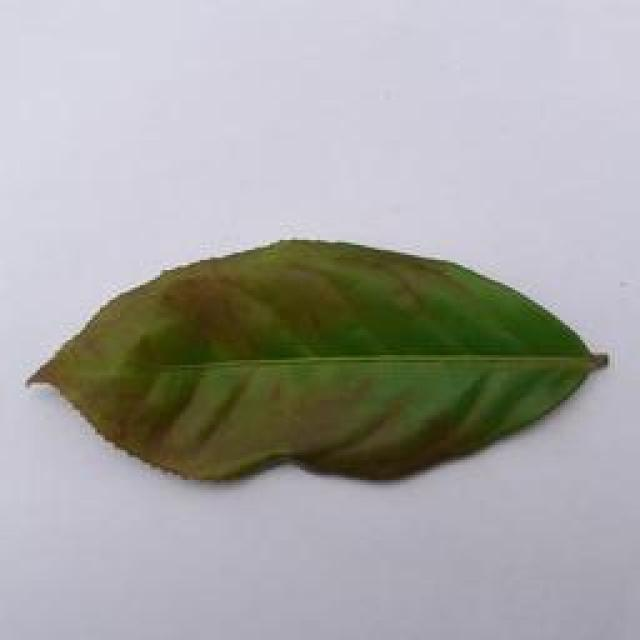Red Leaf Spot: (16, 232, 623, 488)
